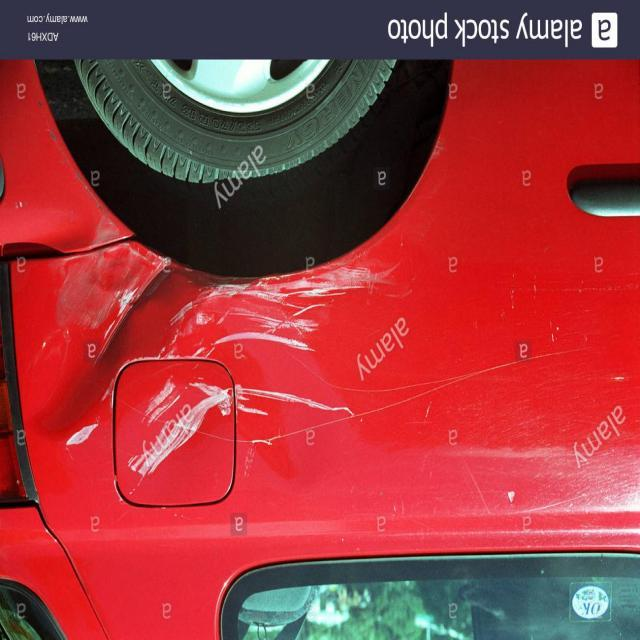scratch: (52, 225, 404, 500)
